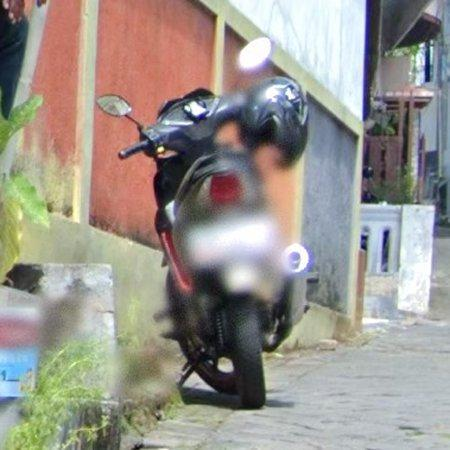motorcycles: (120, 77, 312, 409)
